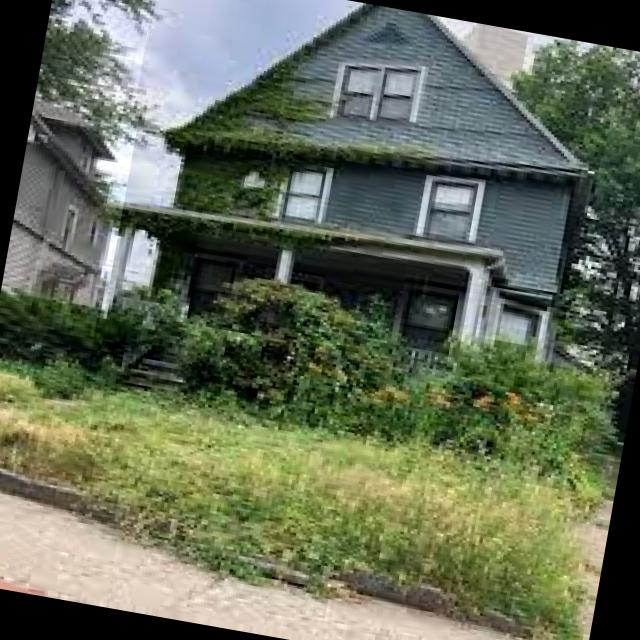House: (85, 0, 620, 467), (0, 92, 140, 310)
